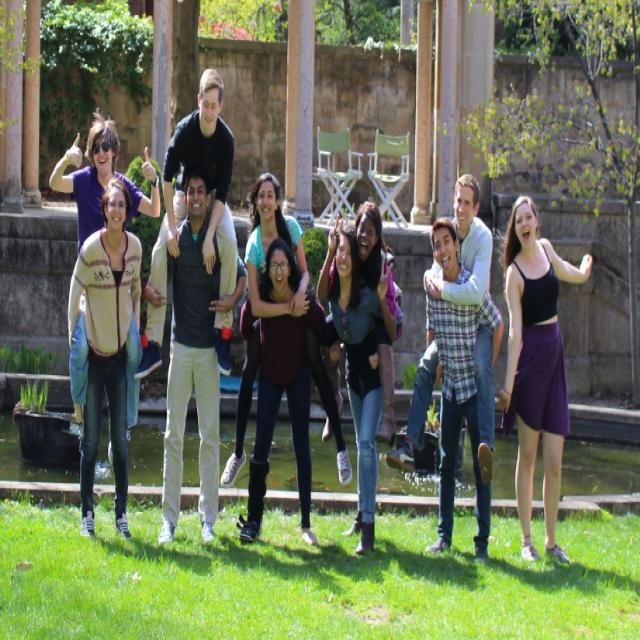body: (218, 172, 354, 489), (141, 163, 250, 549), (46, 112, 162, 472), (496, 192, 594, 568), (131, 61, 239, 386), (385, 173, 496, 484), (235, 231, 331, 551), (65, 172, 146, 546), (422, 214, 506, 574), (319, 222, 406, 566), (314, 197, 401, 451)
